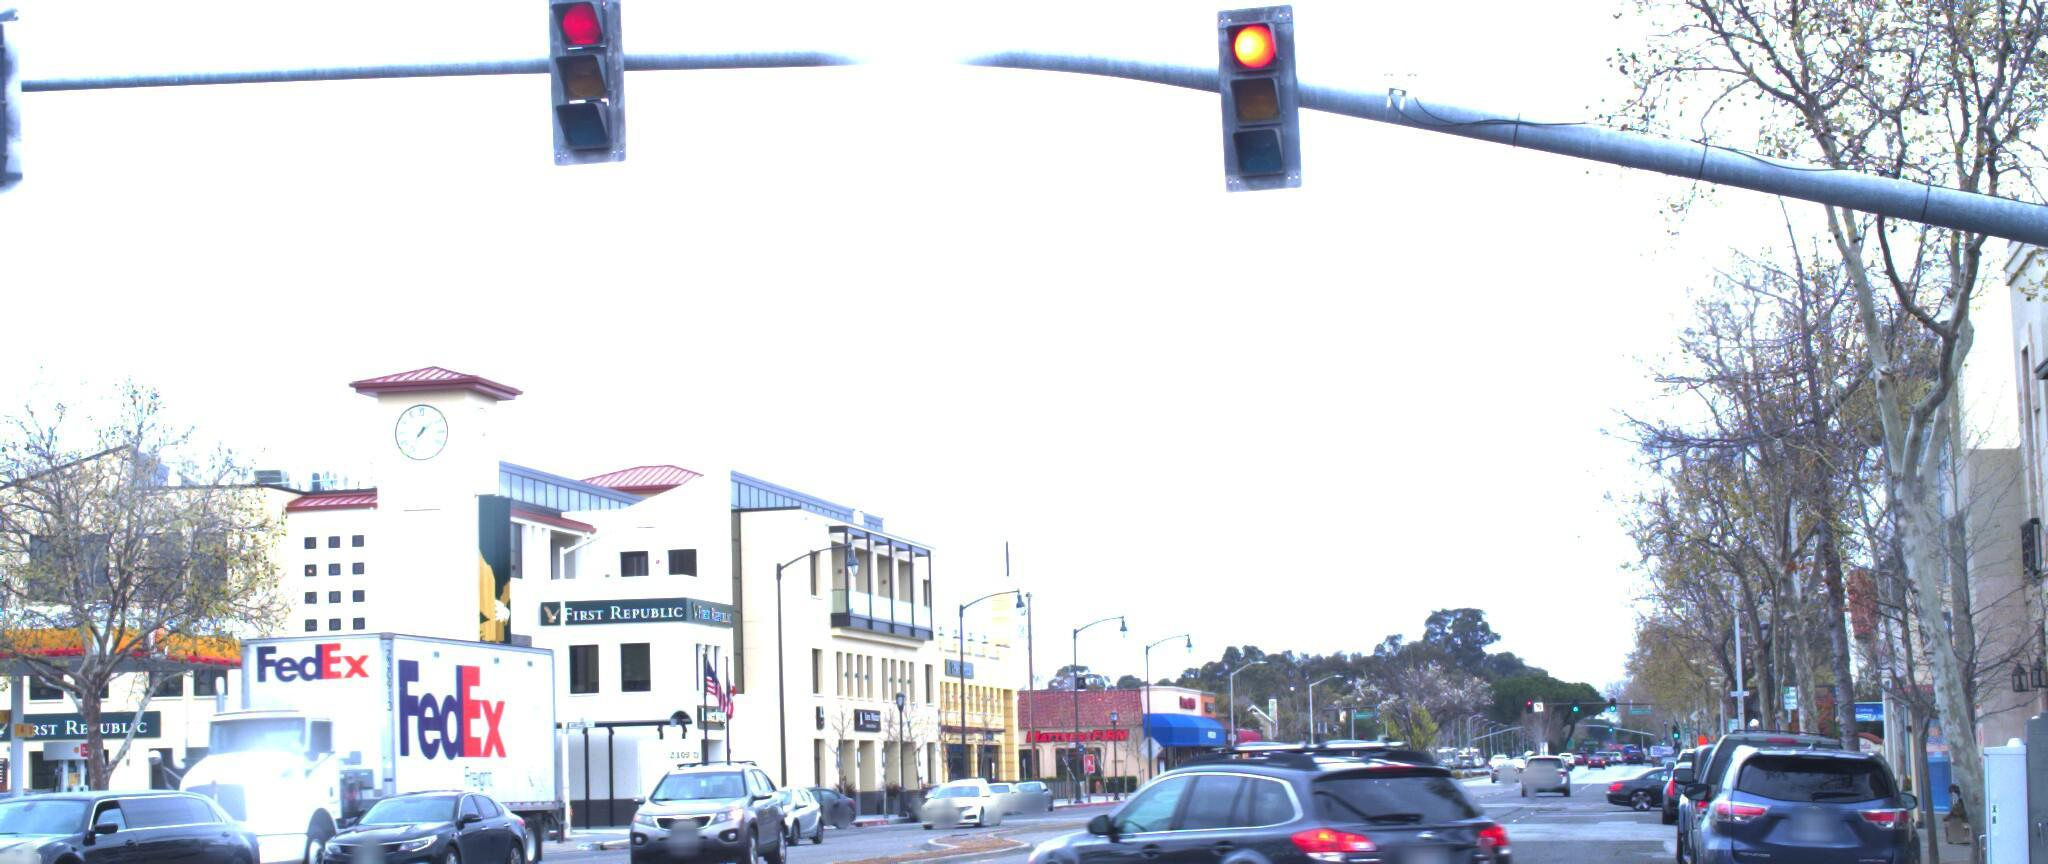car: (993, 720, 1546, 864), (1671, 732, 1930, 864), (1654, 717, 1842, 864), (311, 764, 542, 864), (614, 761, 790, 864), (0, 797, 264, 864)
truck: (140, 620, 583, 864)
